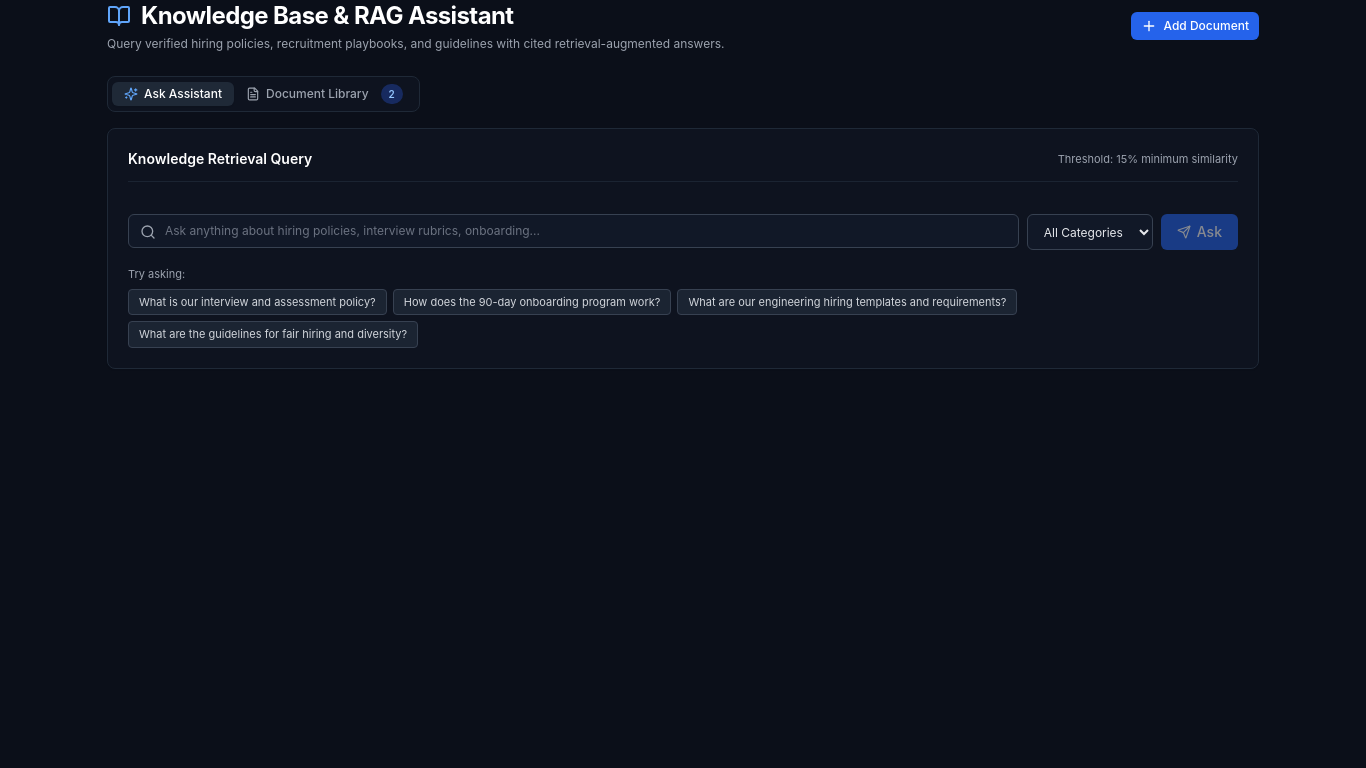
Knowledge Base & RAG Assistant UI (Task 14) › renders Q&A assistant and performs cited question answering
This screenshot has width=1366, height=768.
Expected: the heading "Knowledge Base & RAG Assistant" is shown, [107,1,514,30]
Note: Type question and click ask
Step 1. Type "What is the onboarding program?" into the field with test id "rag-question-input" → (573, 231), box [128,214,1019,248]
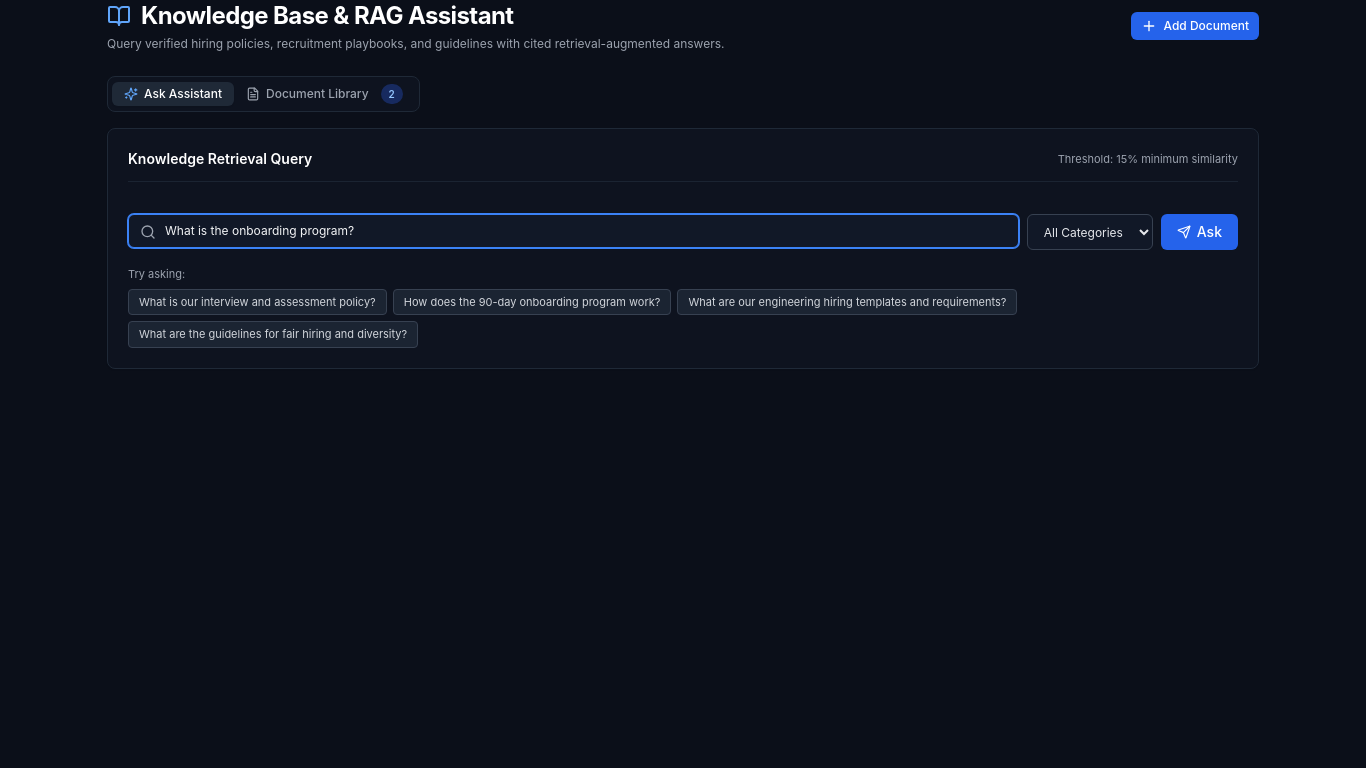
Step 2. Click the button with test id "rag-ask-button" → (1199, 232), box [1161,214,1238,250]
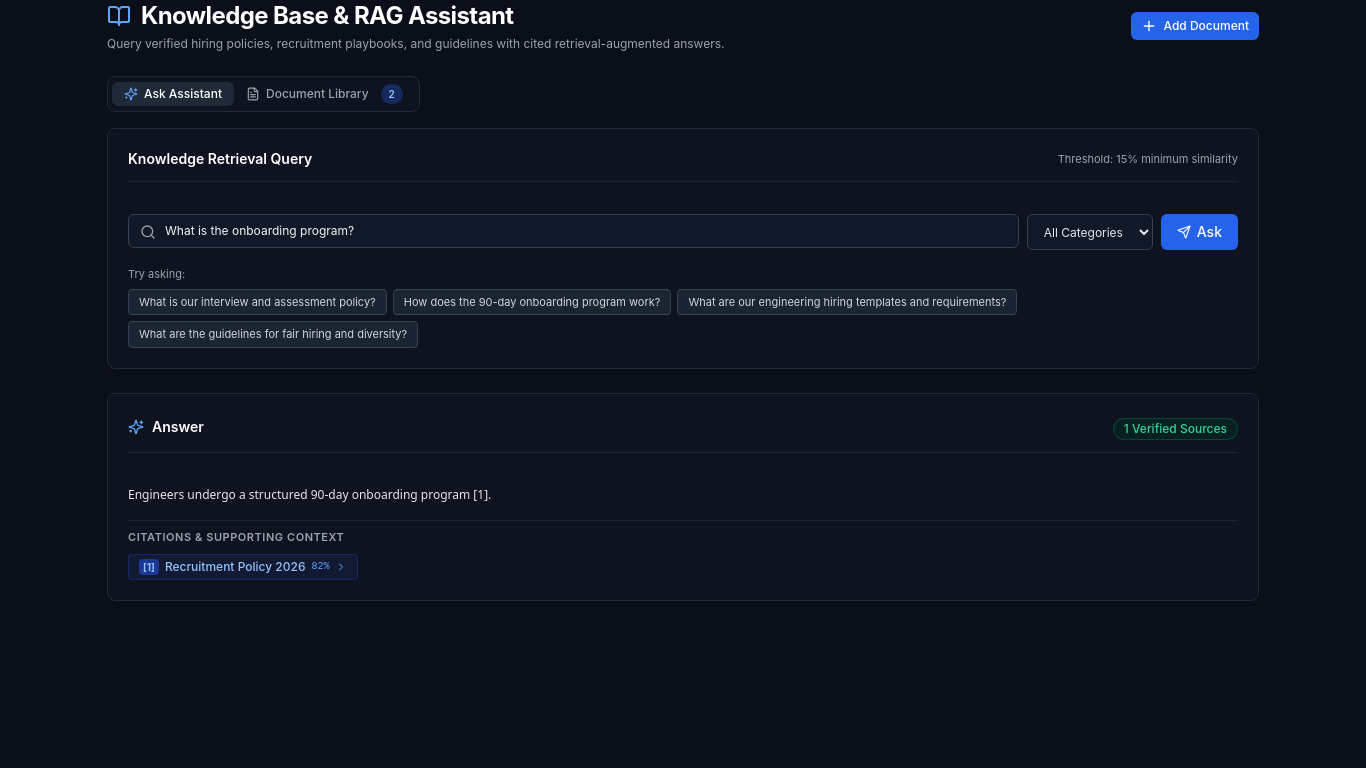
Expected: the element with test id "rag-answer-card" is shown, [107,392,1259,600]
Expected: the text "Engineers undergo a structured 90-day onboarding program [1]." is shown, [128,486,491,502]
Expected: the button with test id "citation-chip-1" is shown
Note: Click citation chip to view snippet
Step 3. Click the button with test id "citation-chip-1" → (243, 566), box [128,554,358,580]
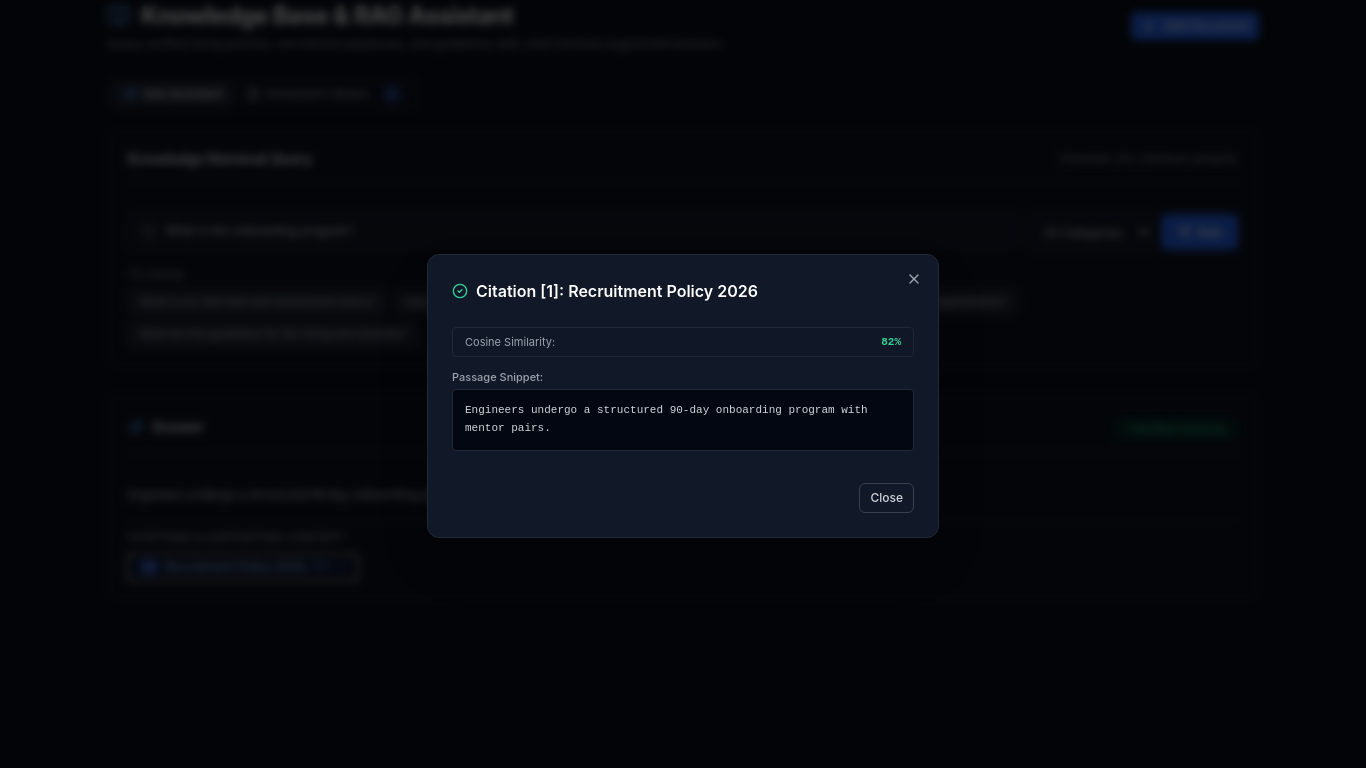
Expected: the text "Passage Snippet:" is shown, [452,370,543,384]
Expected: the text "Engineers undergo a structured 90-day onboarding program with mentor pairs" is shown, [465,404,868,434]
